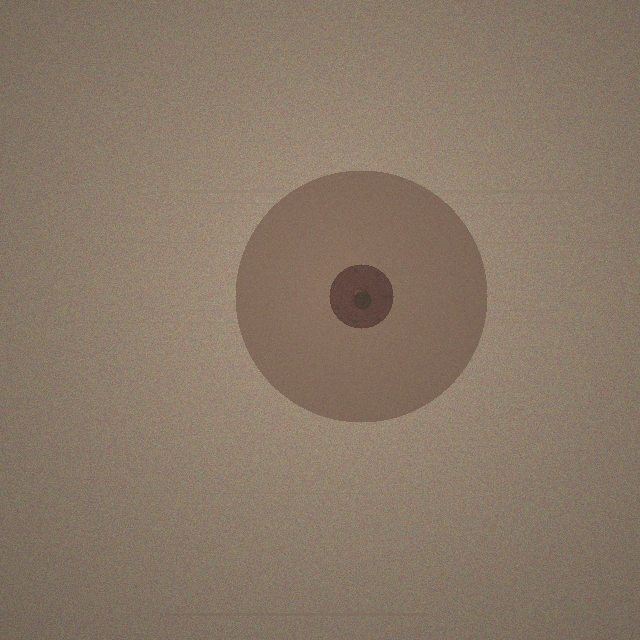cold_weld: (235, 170, 487, 422)
